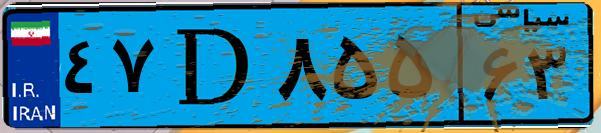3: (525, 38, 570, 115)
4: (57, 26, 110, 100)
5: (385, 28, 445, 110), (330, 28, 385, 110)
6: (475, 38, 525, 113)
7: (110, 28, 158, 98)
8: (270, 28, 330, 110)
D: (158, 12, 270, 120)
